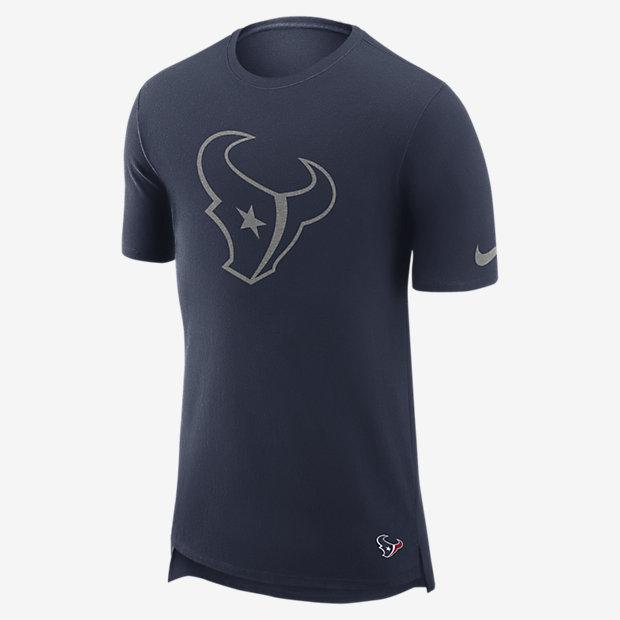teeshirt: (105, 13, 511, 616)
